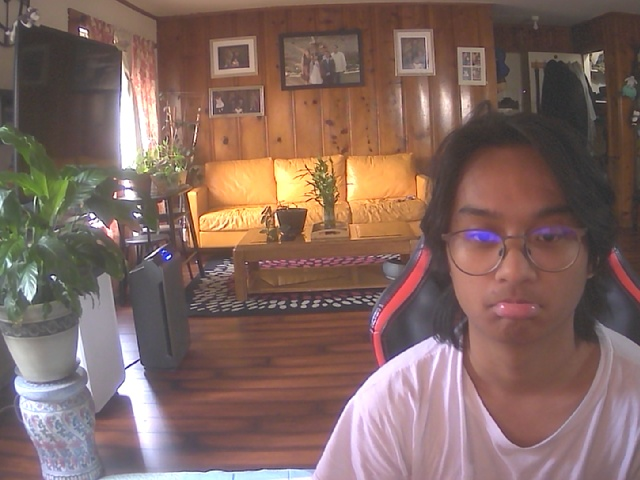sad: (439, 130, 604, 346)
